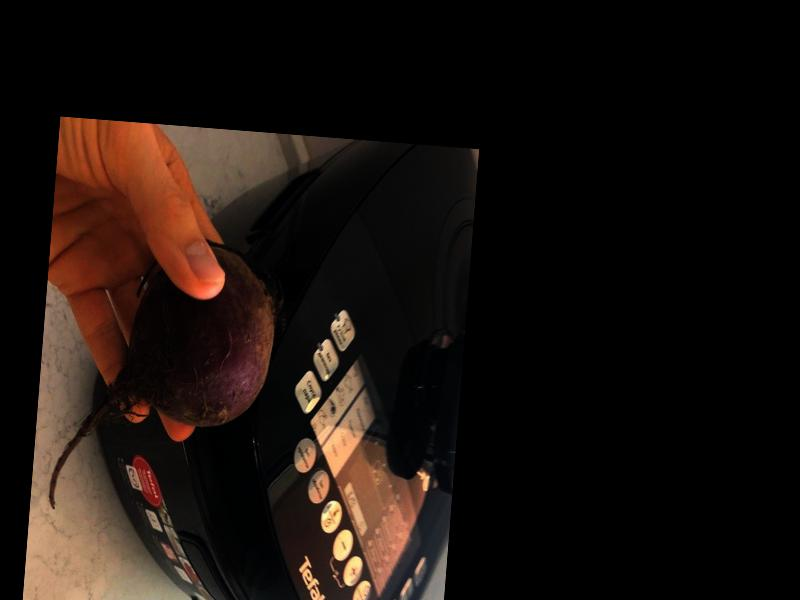Beet: (49, 231, 290, 524)
